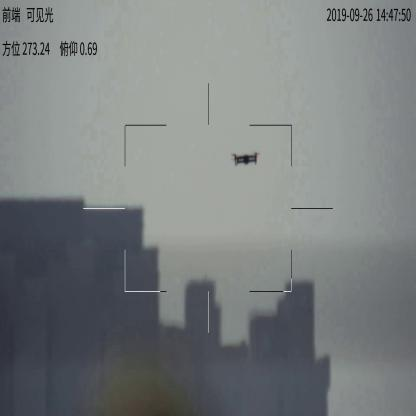uav: (231, 150, 263, 165)
